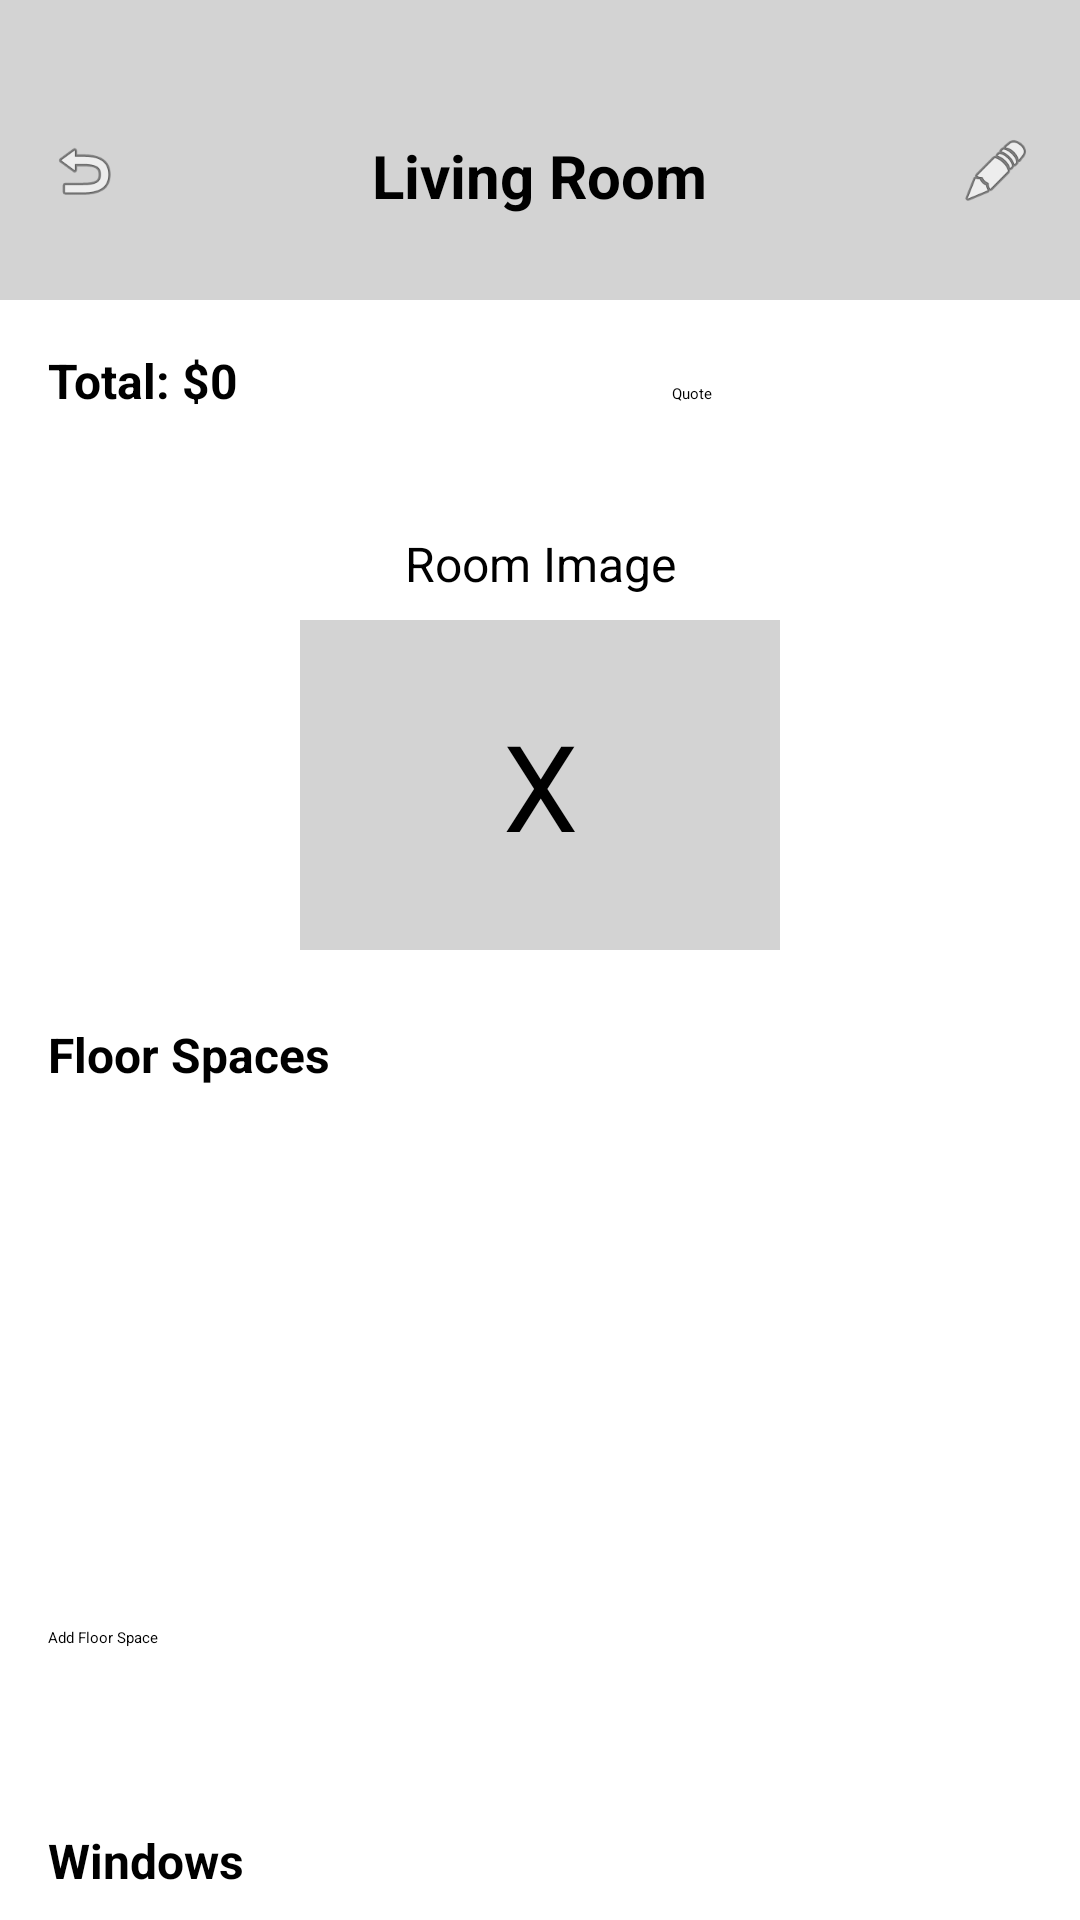

Icons on this 1080px x 1920px Android screen, each with its box as (x1, y1, x2, y2):
edit: (965, 140, 1026, 201)
revert: (59, 148, 111, 195)
